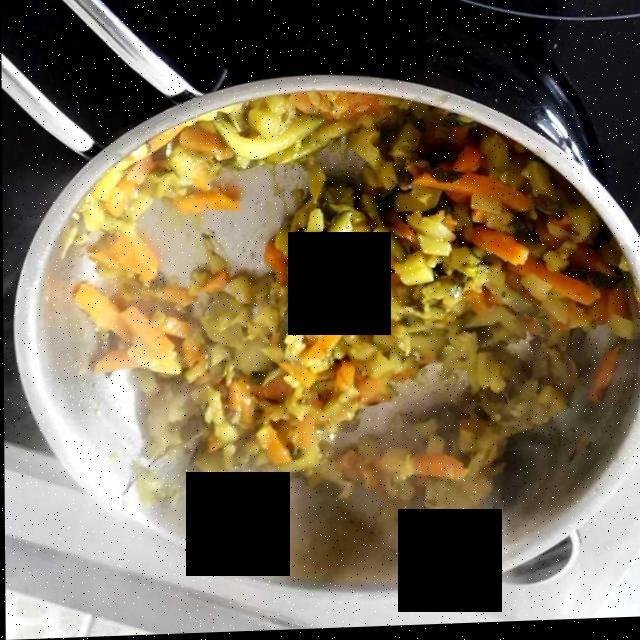mixed-vegetables: (76, 87, 603, 497)
